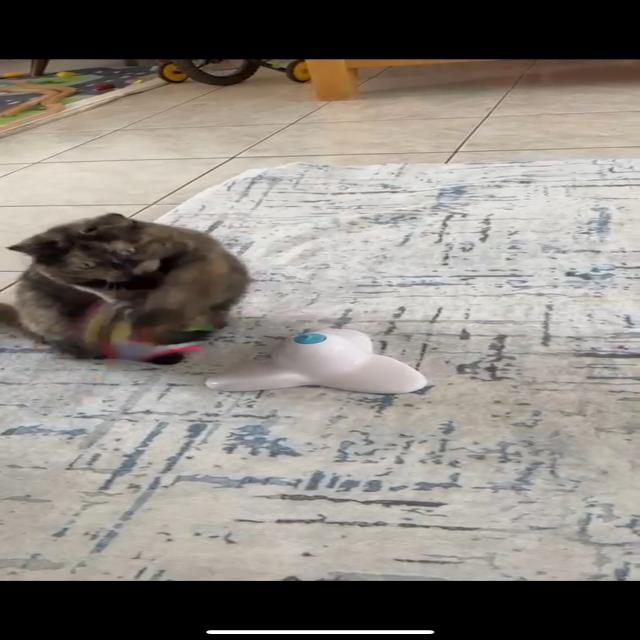authorized: (4, 212, 250, 361)
